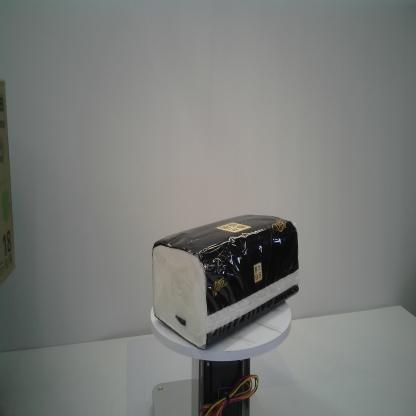Tissue: (152, 212, 300, 350)
